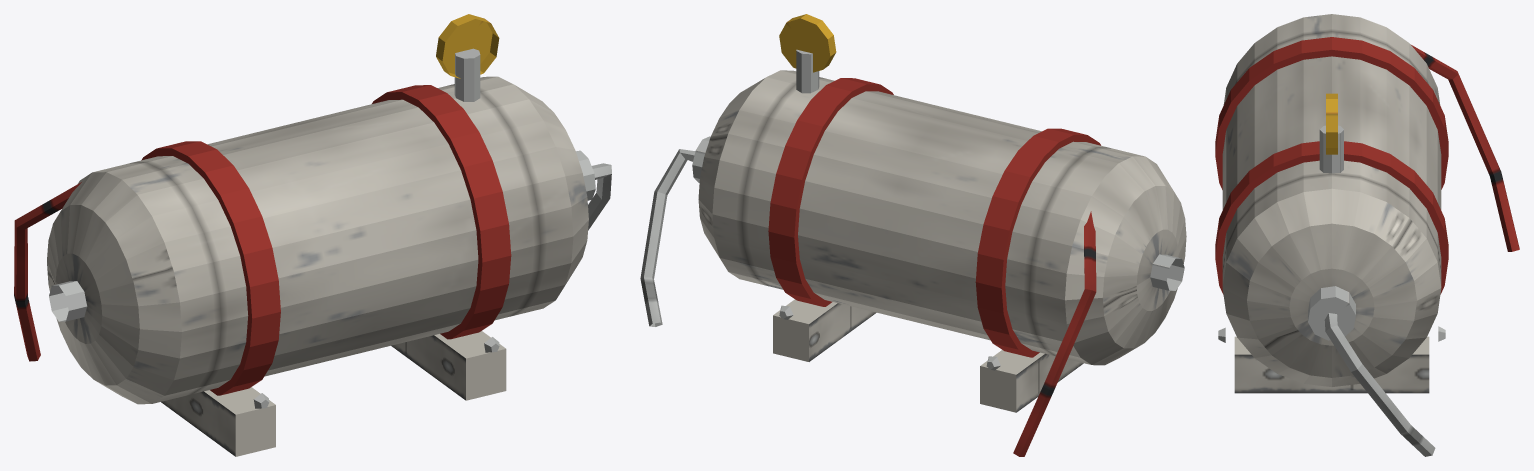
Rendered from part_gastank_white.fbx.
The picture shows the model from 3 angles, left to right: view 1: azimuth 30°, elevation 25°; view 2: azimuth 150°, elevation 25°; view 3: azimuth 270°, elevation 25°; orthographic projection. The views are drawn at different scales.
Parts seen in each view (by area): view 1: part_gastank_white; view 2: part_gastank_white; view 3: part_gastank_white.
Boxes of the visible parts, box(x1,y1,x2,y2) form: part_gastank_white: box(14, 14, 611, 456); part_gastank_white: box(640, 14, 1186, 456); part_gastank_white: box(1215, 14, 1519, 456).
Size of the model in its own units: 0.9817 by 0.5576 by 0.5008.
Materials: 1 (1 with a texture image).
